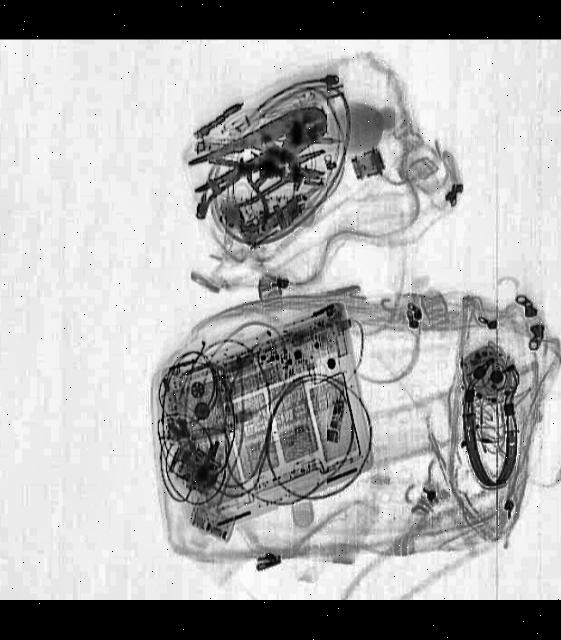Pliers: (181, 99, 338, 204), (224, 138, 335, 212), (198, 150, 279, 234)
